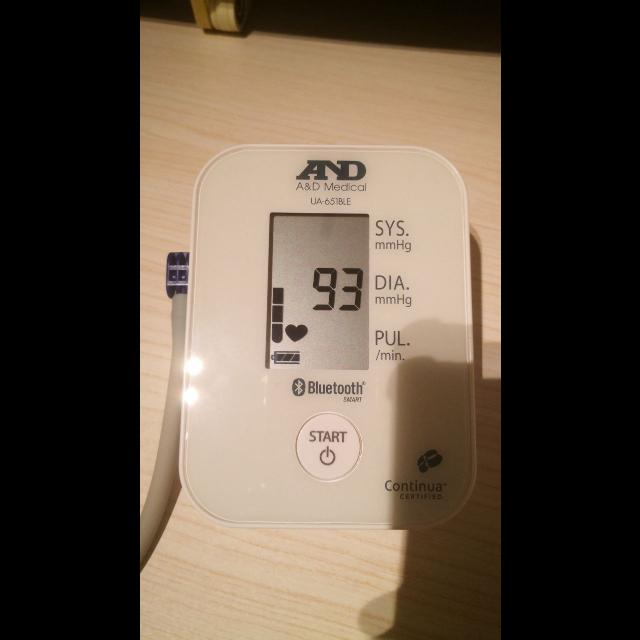Blood-Pressure-Monitor: (177, 144, 475, 528)
